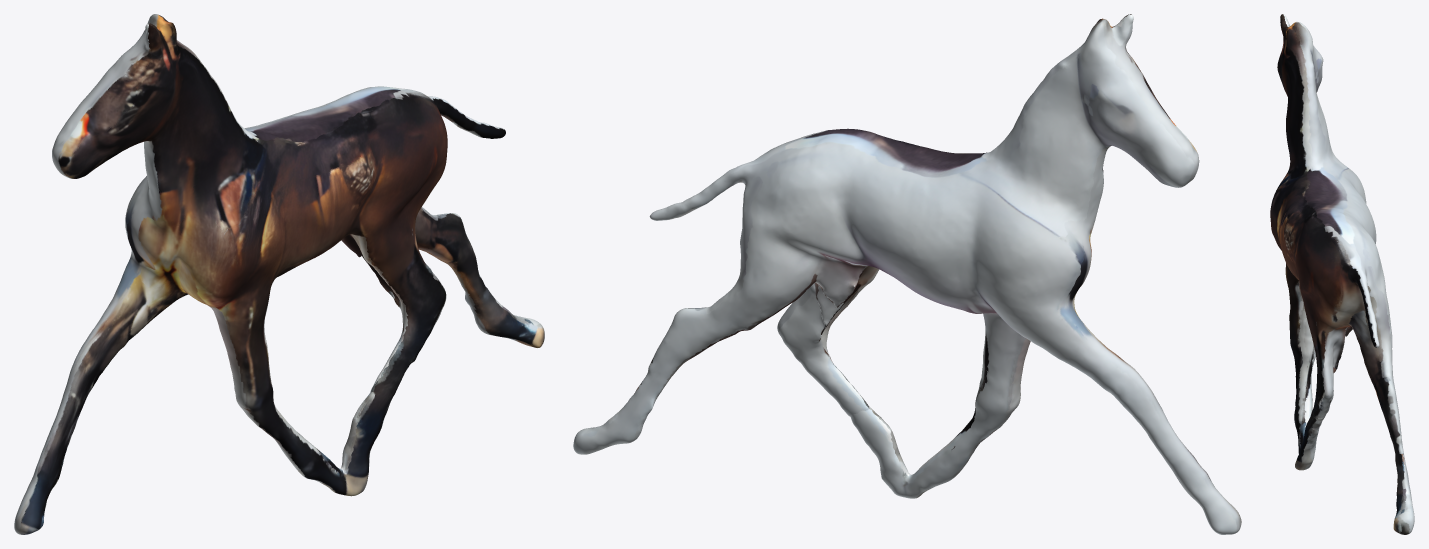
Rendered from bebe.glb.
3 renders of one model, left to right at view 1: azimuth 30°, elevation 25°; view 2: azimuth 150°, elevation 25°; view 3: azimuth 270°, elevation 25°, orthographic. The views are drawn at different scales.
Parts seen in each view (by area): view 1: mesh; view 2: mesh; view 3: mesh.
Part boxes in pixels (<box>): mesh: <box>14,14,544,534</box>; mesh: <box>573,14,1241,534</box>; mesh: <box>1270,14,1414,534</box>.
Bounding box in the file's own units: 1.58 × 1.34 × 0.4625.
Materials: 1 (1 with a texture image).
